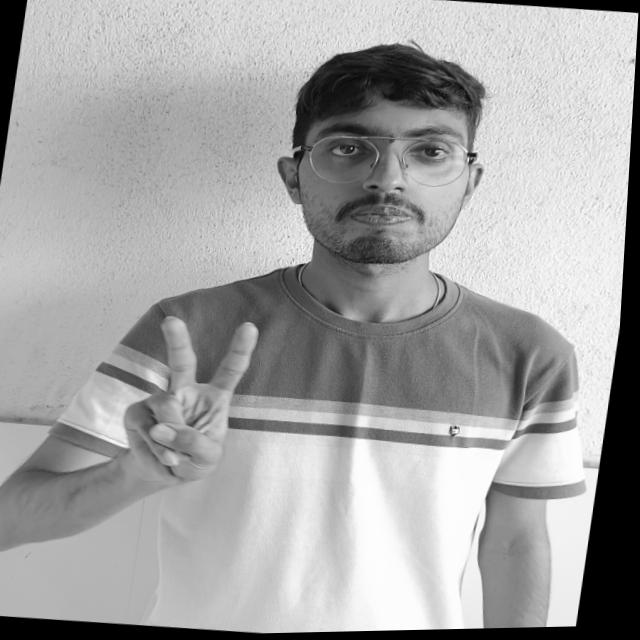Victory: (92, 286, 321, 514)
